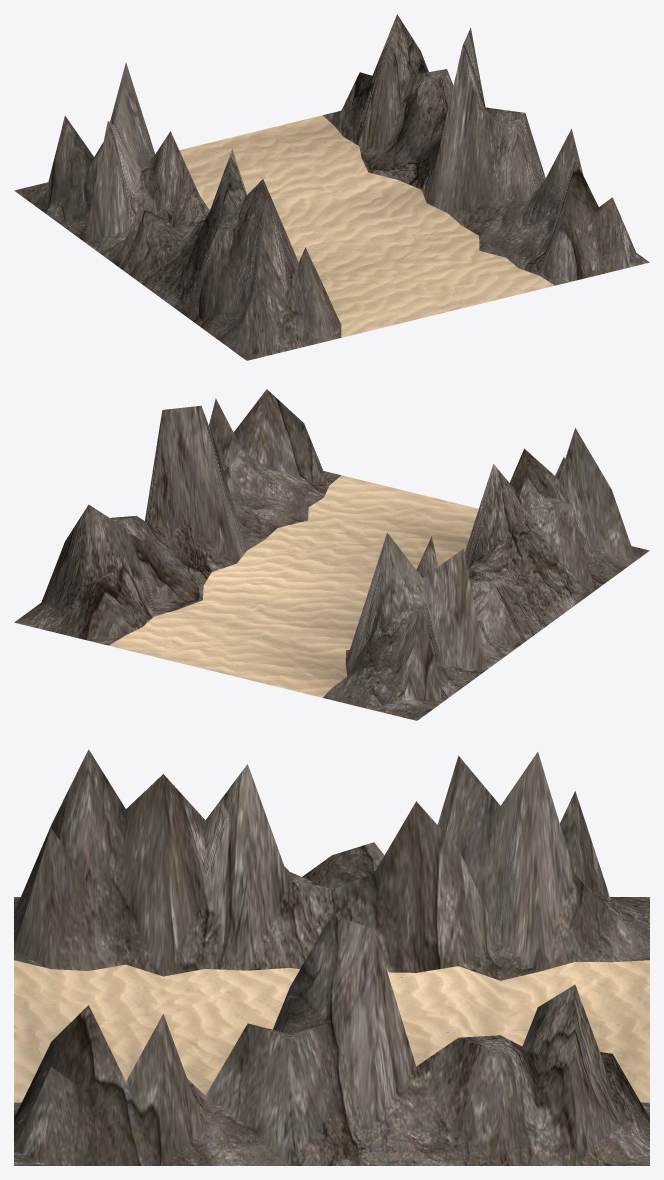
The model's file is streightroad.fbx.
3 renders of one model, top to bottom at view 1: azimuth 30°, elevation 25°; view 2: azimuth 150°, elevation 25°; view 3: azimuth 270°, elevation 25°, orthographic. The views are drawn at different scales.
Visible parts, largest first — view 1: streightroad; view 2: streightroad; view 3: streightroad.
Boxes of the visible parts, box(x1,y1,x2,y2) form: streightroad: box(14, 14, 649, 360); streightroad: box(14, 389, 649, 720); streightroad: box(14, 749, 649, 1165).
Size of the model in its own units: 500 by 178 by 500.
